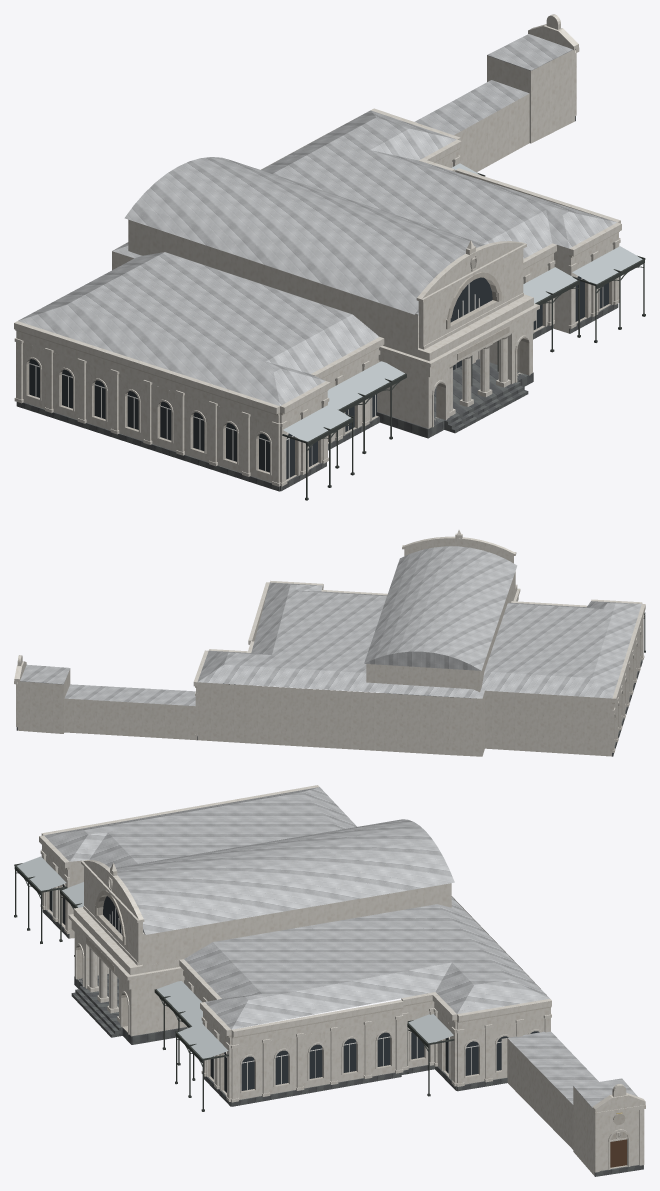
3 renders of one model, top to bottom at view 1: azimuth 30°, elevation 25°; view 2: azimuth 150°, elevation 25°; view 3: azimuth 270°, elevation 25°, orthographic. The views are drawn at different scales.
Parts seen in each view (by area): view 1: bldg_231220414_landmark; view 2: bldg_231220414_landmark; view 3: bldg_231220414_landmark.
Boxes of the visible parts, left/top/right/bottom form: bldg_231220414_landmark: left=14, top=14, right=645, bottom=500; bldg_231220414_landmark: left=14, top=530, right=645, bottom=756; bldg_231220414_landmark: left=14, top=785, right=645, bottom=1176.
Size of the model in its own units: 72.58 by 16.1 by 61.2.
10 materials, 4 textured.
